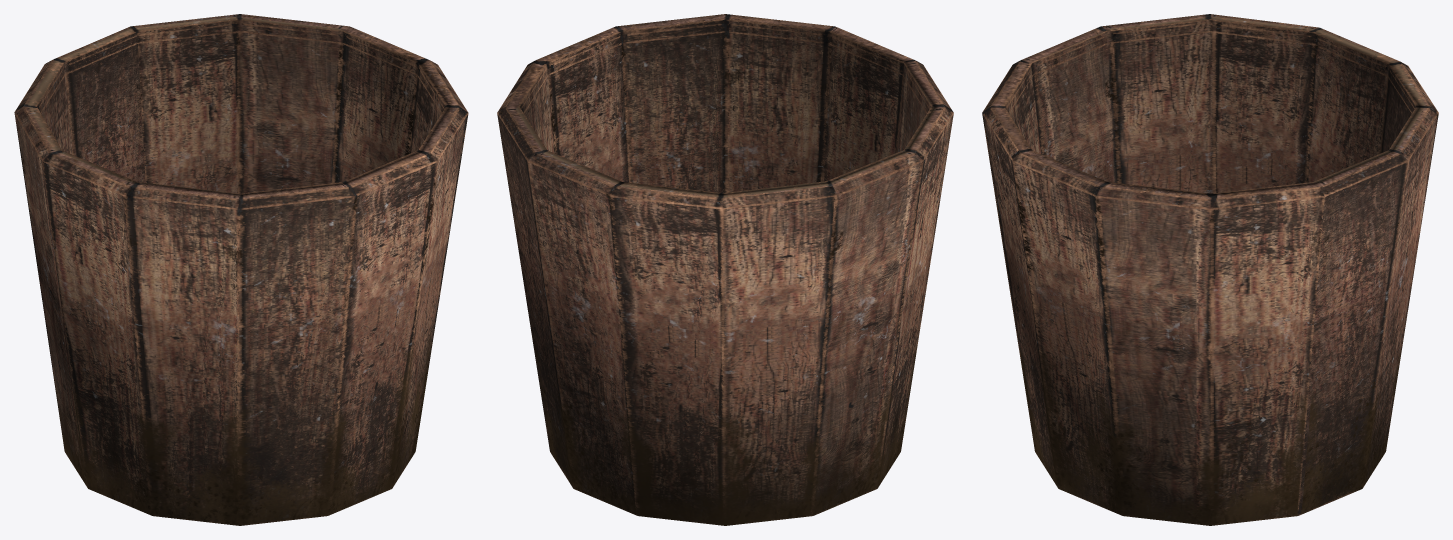
The model's file is Bucket.fbx.
3 views of the same model, side by side, from view 1: azimuth 30°, elevation 25°; view 2: azimuth 150°, elevation 25°; view 3: azimuth 270°, elevation 25° (orthographic).
Visible parts, largest first — view 1: Bucket; view 2: Bucket; view 3: Bucket.
Part boxes in pixels (bbox=[...]): Bucket: bbox=[14, 14, 468, 525]; Bucket: bbox=[497, 14, 953, 525]; Bucket: bbox=[982, 14, 1438, 525].
Bounding box in the file's own units: 5.01 × 4.18 × 5.01.
